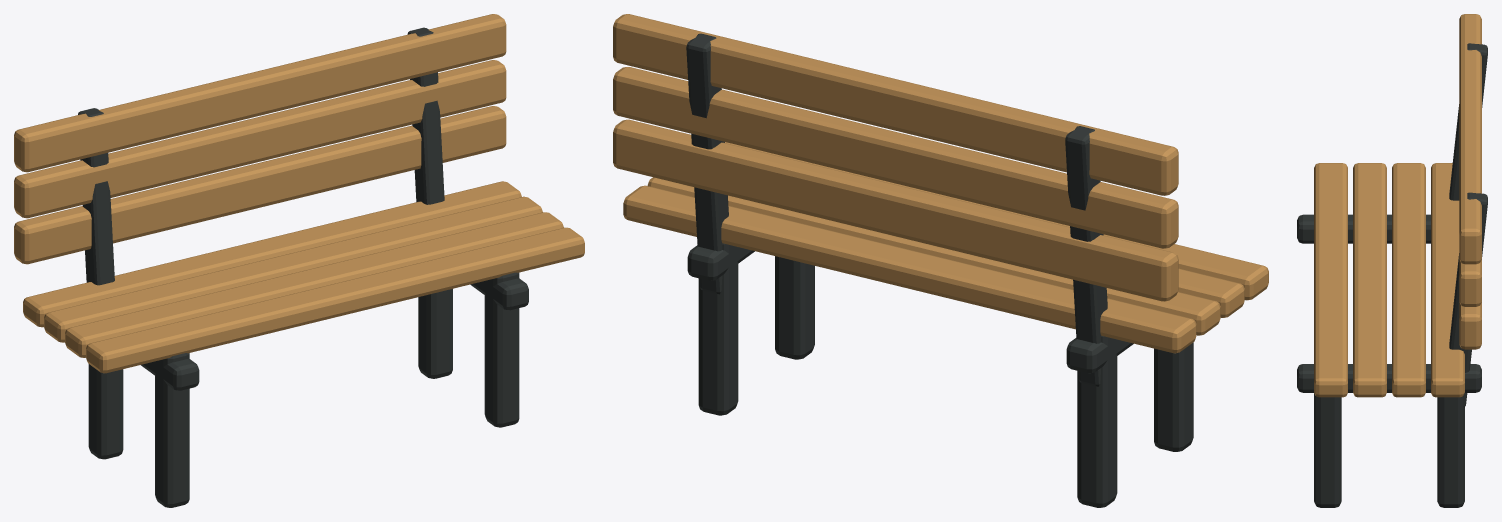
Rendered from 12_station_bench.glb.
The picture shows the model from 3 angles, left to right: view 1: azimuth 30°, elevation 25°; view 2: azimuth 150°, elevation 25°; view 3: azimuth 270°, elevation 25°; orthographic projection. The views are drawn at different scales.
Visible parts, largest first — view 1: Bench back slat.005, Bench back slat.004, Bench back slat.003, Bench seat slat.004, Bench seat slat.006, Bench seat slat.005, Bench seat slat.007, Bench foot.006, Bench foot.004, Bench foot.005, Bench foot.007, Bench back support.002 (+3 smaller); view 2: Bench back slat.003, Bench back slat.004, Bench back slat.005, Bench seat slat.007, Bench seat slat.006, Bench foot.007, Bench foot.005, Bench back support.003, Bench back support.002, Bench foot.004, Bench foot.006, Bench seat slat.004 (+3 smaller); view 3: Bench seat slat.004, Bench seat slat.006, Bench seat slat.005, Bench seat slat.007, Bench back slat.005, Bench foot.006, Bench foot.007, Seat bracket.003, Bench back support.003, Bench back slat.003, Bench back slat.004, Bench back support.002 (+1 smaller).
Part boxes in pixels (x1=…): Bench back slat.005: x1=14, y1=14, x2=506, y2=172; Bench back slat.004: x1=14, y1=60, x2=506, y2=218; Bench back slat.003: x1=14, y1=106, x2=506, y2=264; Bench seat slat.004: x1=86, y1=227, x2=584, y2=373; Bench seat slat.006: x1=44, y1=196, x2=542, y2=342; Bench seat slat.005: x1=65, y1=212, x2=563, y2=357; Bench seat slat.007: x1=23, y1=181, x2=521, y2=327; Bench foot.006: x1=484, y1=272, x2=519, y2=427; Bench foot.004: x1=155, y1=353, x2=189, y2=507; Bench foot.005: x1=88, y1=364, x2=123, y2=459; Bench foot.007: x1=418, y1=289, x2=452, y2=378; Bench back support.002: x1=78, y1=108, x2=114, y2=285; Bench back slat.003: x1=613, y1=119, x2=1178, y2=301; Bench back slat.004: x1=613, y1=67, x2=1178, y2=248; Bench back slat.005: x1=613, y1=14, x2=1178, y2=195; Bench seat slat.007: x1=623, y1=185, x2=1196, y2=353; Bench seat slat.006: x1=647, y1=177, x2=1220, y2=335; Bench foot.007: x1=698, y1=243, x2=738, y2=415; Bench foot.005: x1=1077, y1=335, x2=1117, y2=507; Bench back support.003: x1=686, y1=33, x2=728, y2=294; Bench back support.002: x1=1065, y1=126, x2=1107, y2=386; Bench foot.004: x1=1154, y1=342, x2=1193, y2=451; Bench foot.006: x1=775, y1=256, x2=814, y2=359; Bench seat slat.004: x1=725, y1=142, x2=1268, y2=300; Bench seat slat.004: x1=1314, y1=163, x2=1347, y2=397; Bench seat slat.006: x1=1392, y1=163, x2=1425, y2=397; Bench seat slat.005: x1=1353, y1=163, x2=1386, y2=397; Bench seat slat.007: x1=1431, y1=163, x2=1464, y2=397; Bench back slat.005: x1=1459, y1=14, x2=1481, y2=264; Bench foot.006: x1=1314, y1=393, x2=1341, y2=507; Bench foot.007: x1=1437, y1=396, x2=1464, y2=507; Seat bracket.003: x1=1297, y1=364, x2=1481, y2=392; Bench back support.003: x1=1449, y1=192, x2=1487, y2=407; Bench back slat.003: x1=1459, y1=302, x2=1481, y2=349; Bench back slat.004: x1=1459, y1=259, x2=1481, y2=306; Bench back support.002: x1=1449, y1=43, x2=1487, y2=200.
Size of the model in its own units: 1.6 by 1.05 by 0.5887.
